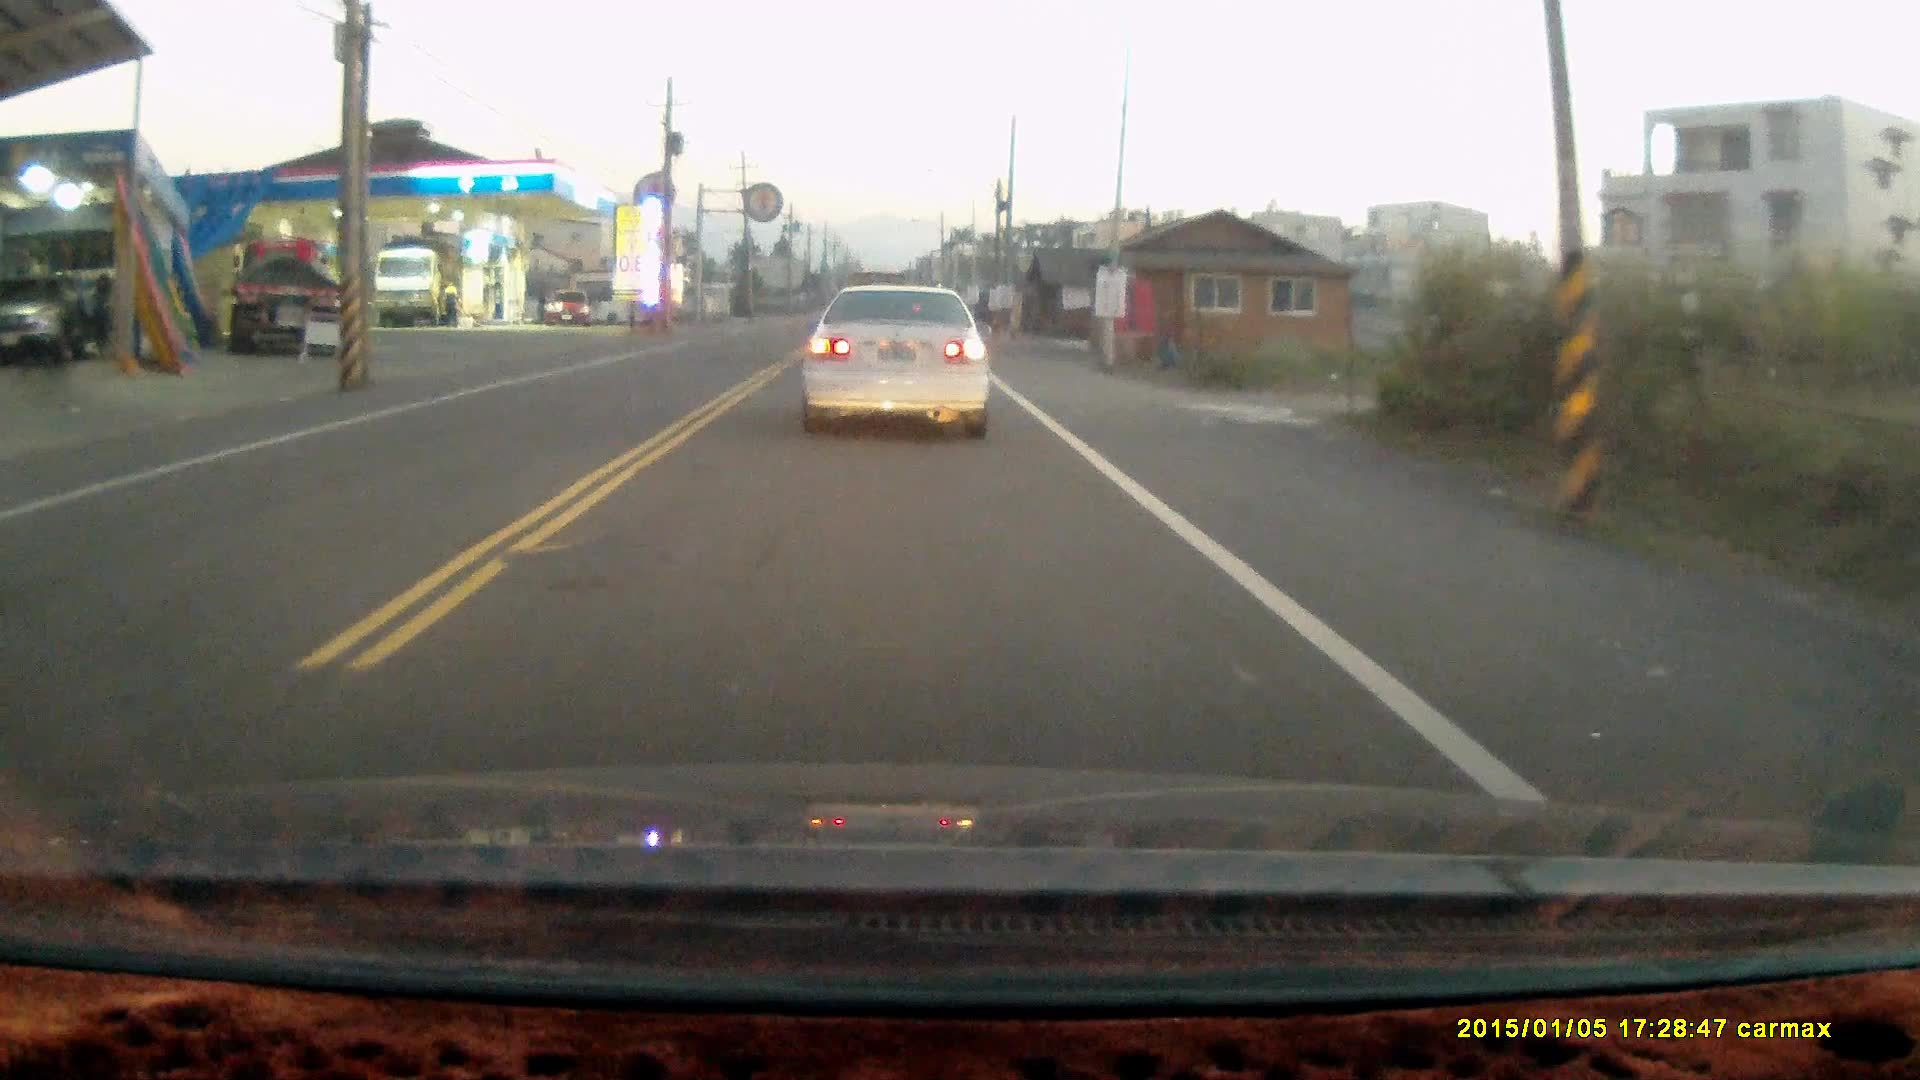pedestrian: (439, 279, 461, 328)
vehicle: (795, 280, 995, 448), (223, 241, 334, 357), (374, 252, 455, 336), (547, 292, 590, 331)
